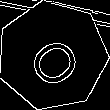O_NE: (19, 23, 86, 88)
